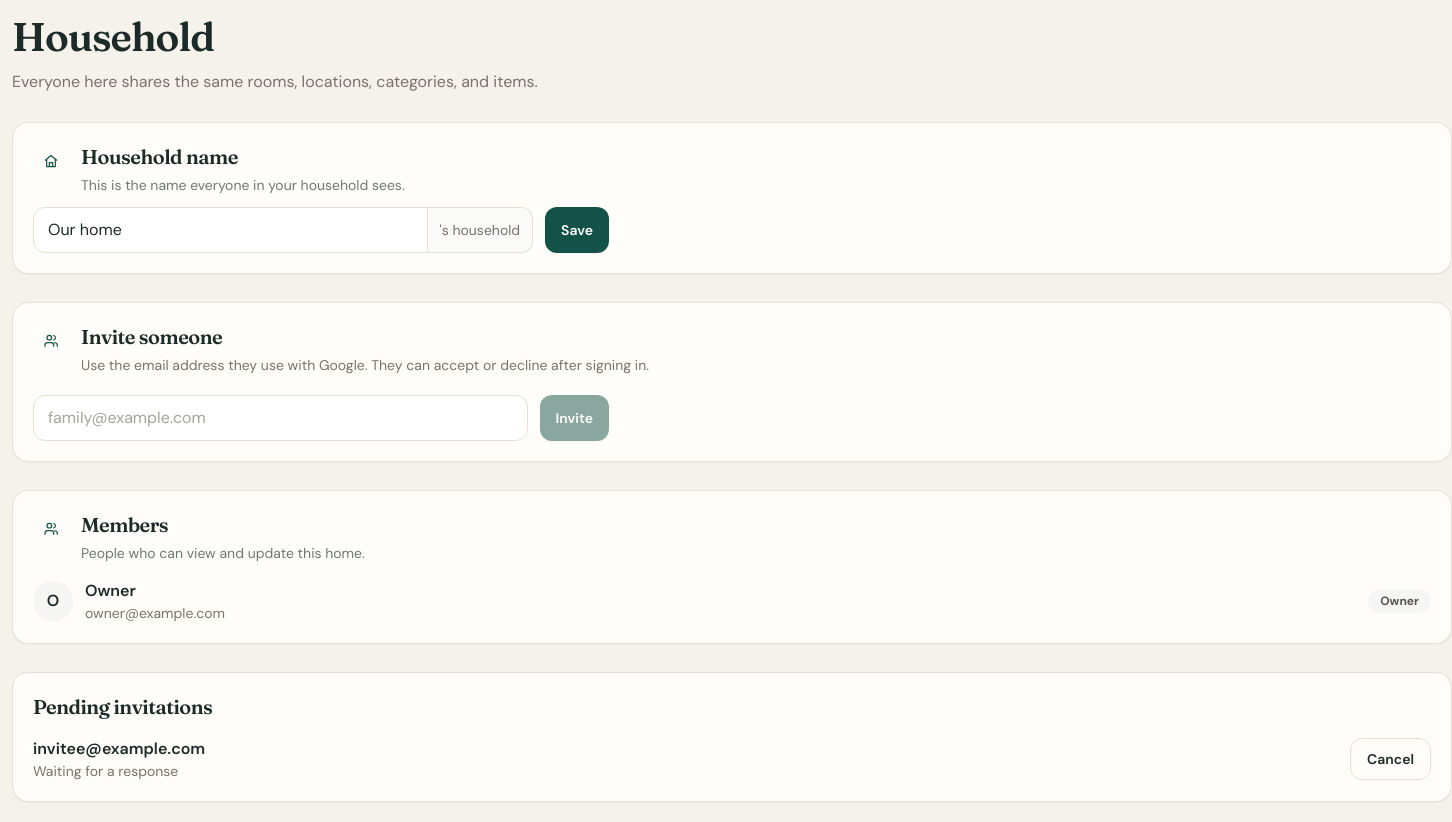
Test: HouseholdPage › keeps the household details button on Save while canceling an invitation
The width and height of the screenshot is (1452, 822).
Expected: the button "Save" is shown, [545, 207, 609, 253]
What coordinates should you click on to do the following:
click the button "Cancel"
I would click on:
 (1391, 759)
Its box is [1350, 738, 1431, 780].
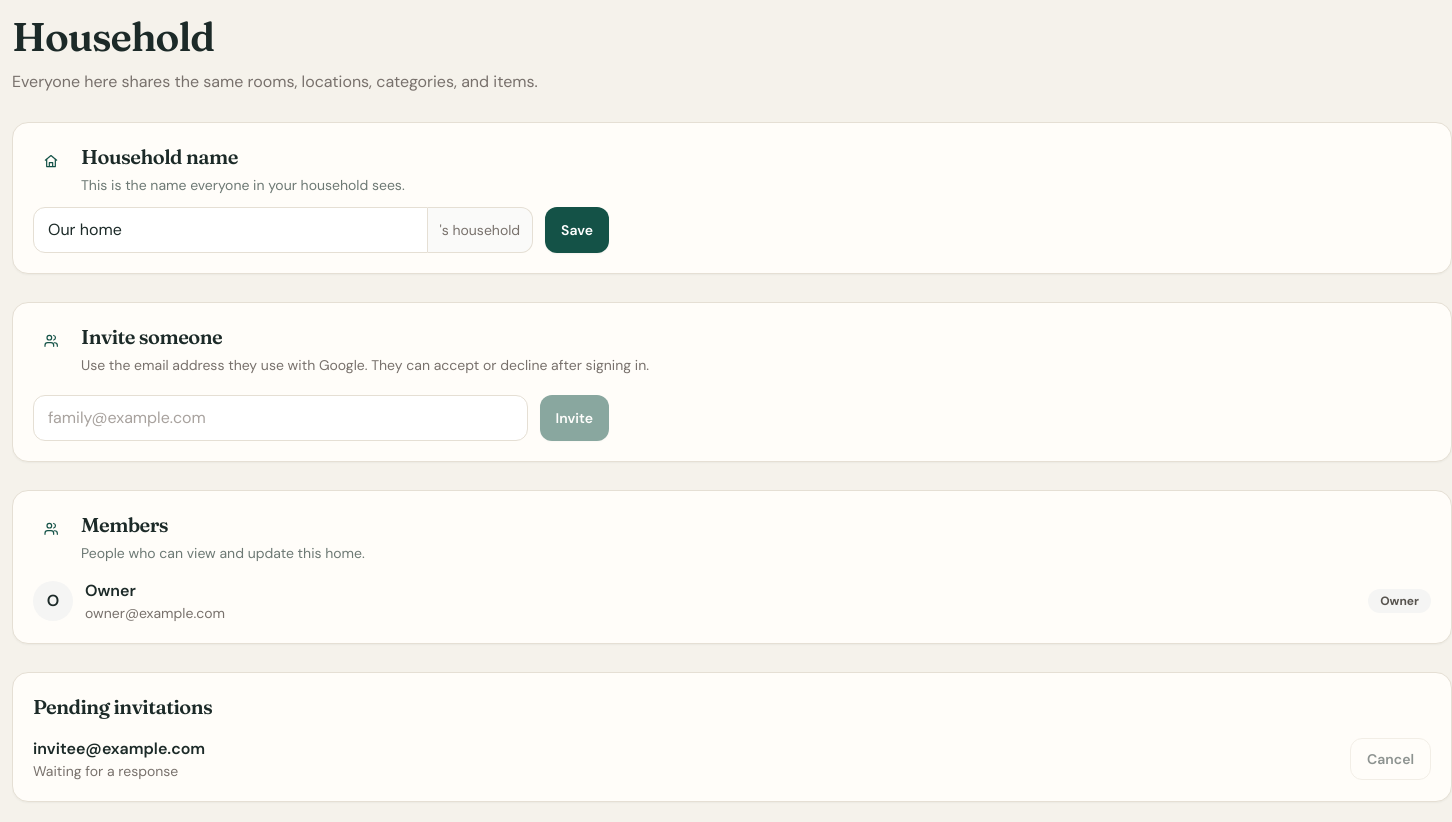
Expected: the button "Save" is enabled, [545, 207, 609, 253]
Now the button "Cancel" is disabled, box [1350, 738, 1431, 780]
